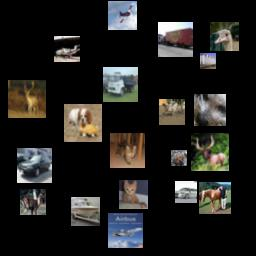airplane: (108, 213, 143, 248), (108, 1, 137, 30), (54, 36, 80, 62)
automobile: (17, 148, 52, 183), (175, 181, 197, 203)
bird: (210, 22, 239, 51)
cat: (110, 133, 145, 168), (119, 180, 148, 209)
deer: (191, 133, 229, 171), (8, 80, 46, 118), (20, 189, 46, 215)
dog: (64, 104, 102, 142), (194, 94, 226, 126)
frog: (171, 150, 187, 166)
ship: (71, 197, 100, 226)
truck: (158, 22, 193, 57), (103, 67, 138, 102), (200, 53, 216, 69)
